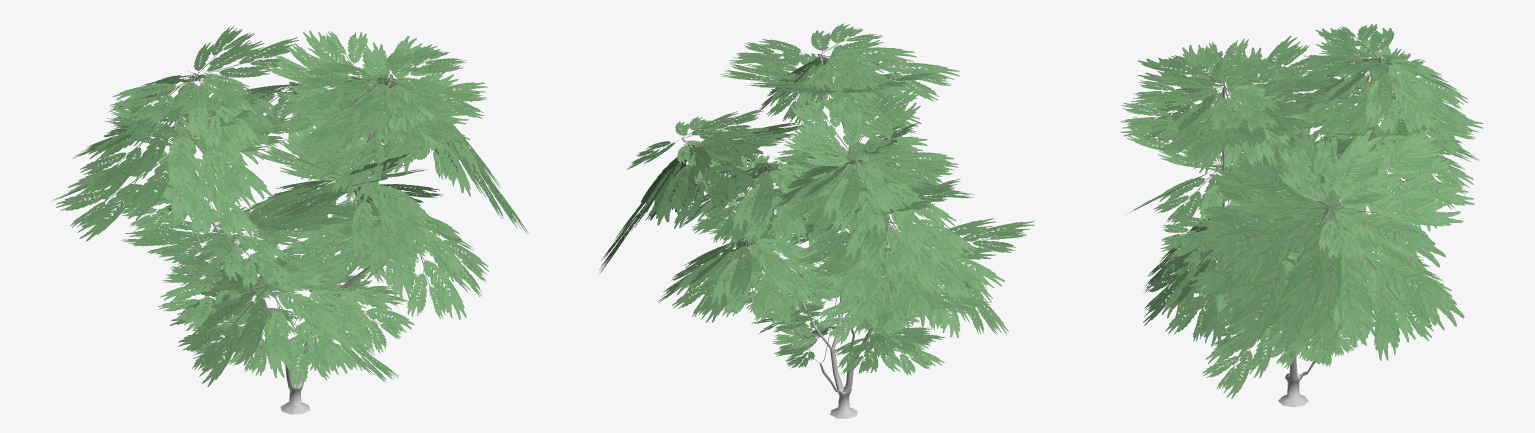
The model's file is CARBONERO LISTO.fbx.
The picture shows the model from 3 angles, left to right: view 1: azimuth 30°, elevation 25°; view 2: azimuth 150°, elevation 25°; view 3: azimuth 270°, elevation 25°; orthographic projection. The views are drawn at different scales.
Visible parts, largest first — view 1: CARBONERO_LOD0; view 2: CARBONERO_LOD0; view 3: CARBONERO_LOD0.
Boxes of the visible parts, bbox=[...] form: CARBONERO_LOD0: bbox=[51, 26, 528, 414]; CARBONERO_LOD0: bbox=[598, 23, 1034, 418]; CARBONERO_LOD0: bbox=[1120, 24, 1483, 407].
Size of what is drawn, in the model's own units: 4.81 by 3.63 by 4.01.
